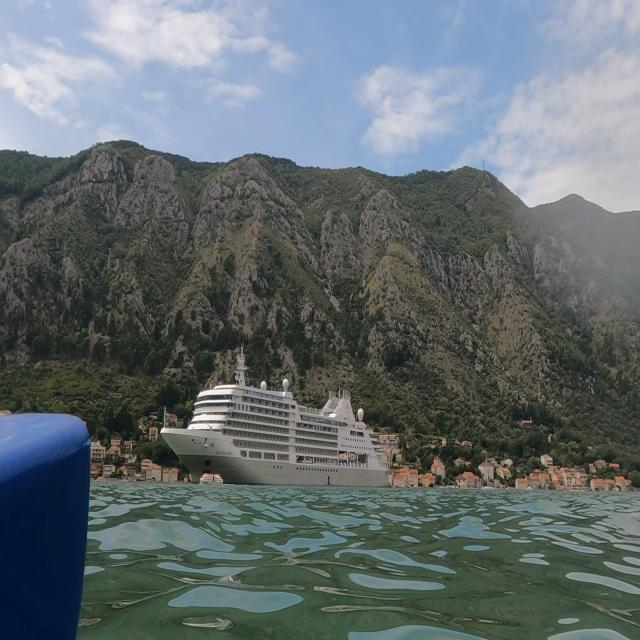boat: (158, 340, 393, 491)
